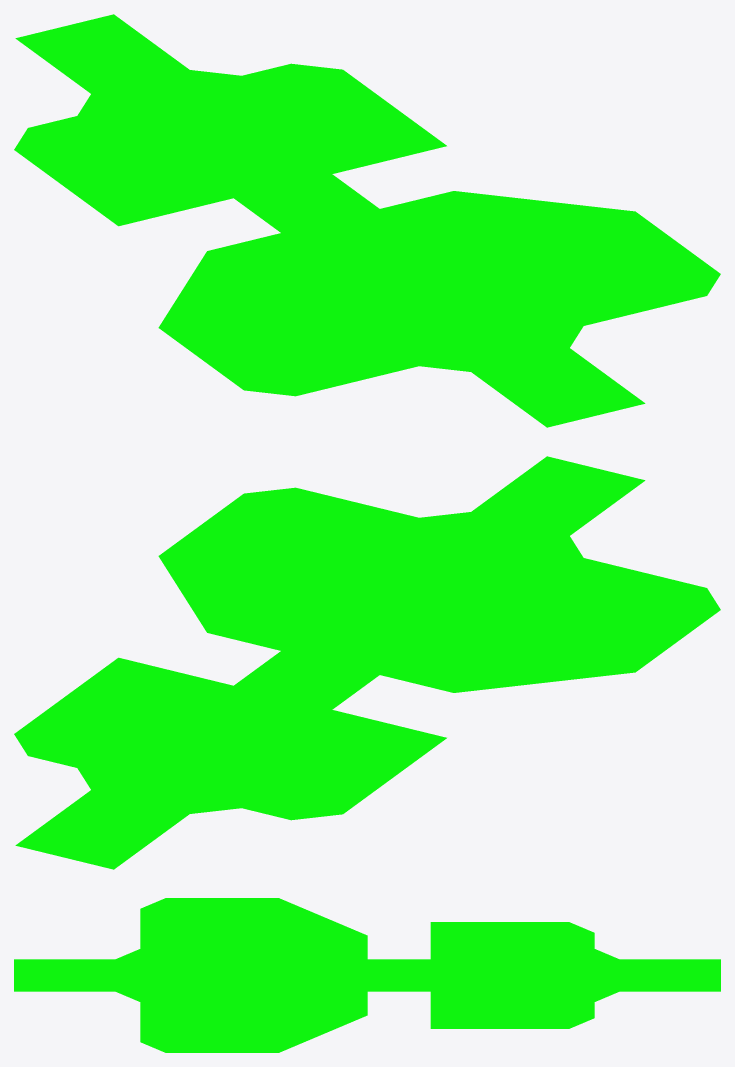
The model's file is s06a_ga1-floor.glb.
The picture shows the model from 3 angles, top to bottom: view 1: azimuth 30°, elevation 25°; view 2: azimuth 150°, elevation 25°; view 3: azimuth 270°, elevation 25°; orthographic projection. The views are drawn at different scales.
Parts seen in each view (by area): view 1: collision_floor-colonly; view 2: collision_floor-colonly; view 3: collision_floor-colonly.
Boxes of the visible parts, x1,y1,x2,y2 form: collision_floor-colonly: (14,14,720,427); collision_floor-colonly: (14,456,720,869); collision_floor-colonly: (14,898,720,1052).
Bounding box in the file's own units: 29 × 0 × 56.
